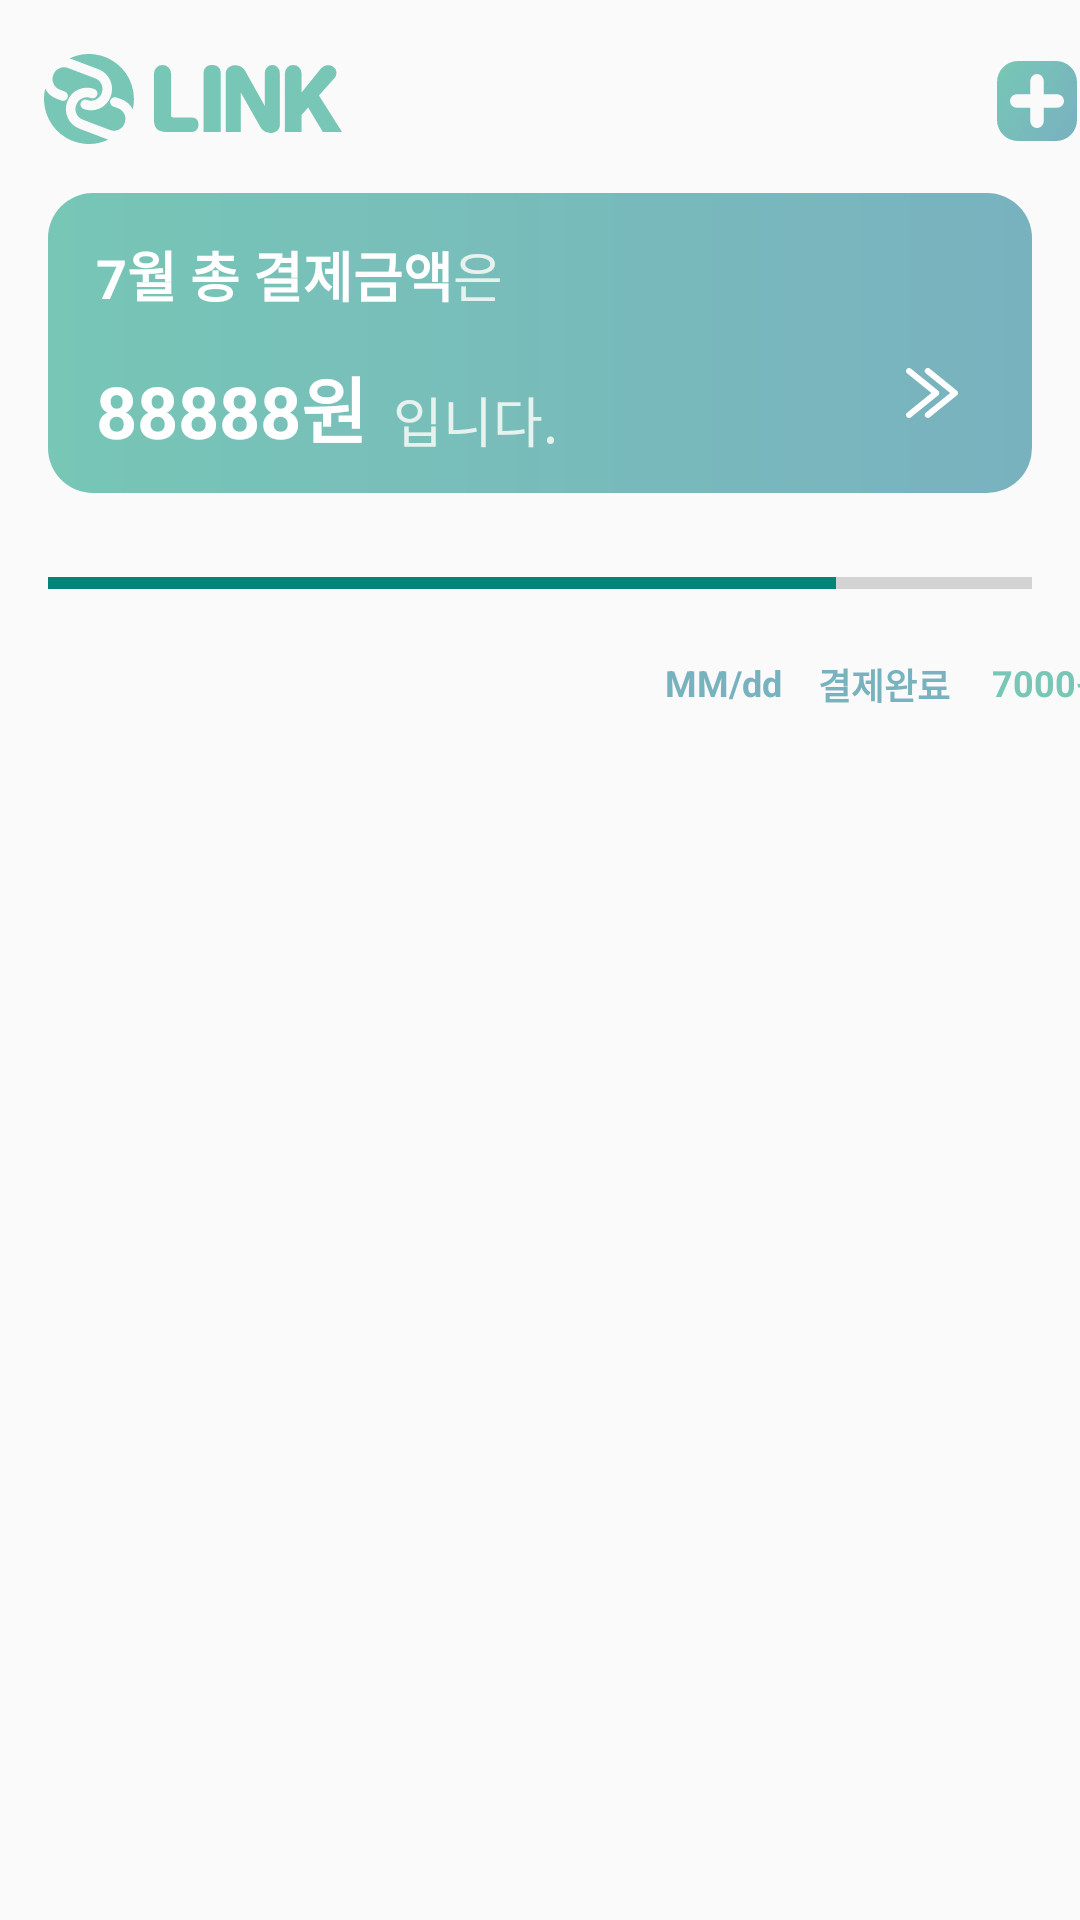

Named icons in this screenshot (1080x1920) and their centers, (x,y):
next: (932,393)
plus: (1037,101)
